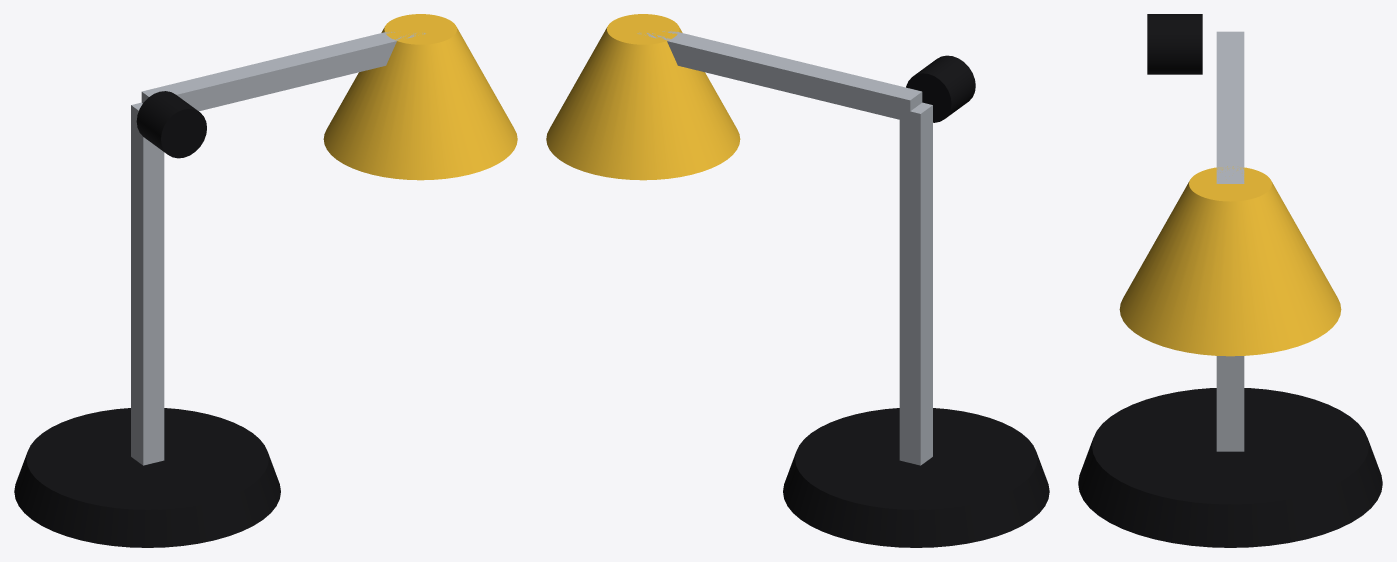
File: lamp.glb
The picture shows the model from 3 angles, left to right: view 1: azimuth 30°, elevation 25°; view 2: azimuth 150°, elevation 25°; view 3: azimuth 270°, elevation 25°; orthographic projection. The views are drawn at different scales.
Parts seen in each view (by area): view 1: Base, Shade, Arm, Upper arm, Joint; view 2: Base, Shade, Arm, Upper arm, Joint; view 3: Base, Shade, Upper arm, Joint, Arm.
Boxes of the visible parts, box(x1,y1,x2,y2) form: Base: box(14, 408, 280, 547); Shade: box(323, 14, 517, 180); Arm: box(131, 102, 164, 465); Upper arm: box(141, 31, 425, 111); Joint: box(136, 91, 206, 158); Base: box(783, 408, 1049, 547); Shade: box(546, 14, 740, 180); Arm: box(899, 102, 932, 465); Upper arm: box(637, 30, 922, 122); Joint: box(906, 55, 975, 122); Base: box(1078, 388, 1382, 547); Shade: box(1119, 166, 1341, 356); Upper arm: box(1216, 31, 1244, 183); Joint: box(1147, 14, 1202, 74); Arm: box(1216, 356, 1244, 451).
Size of the model in its own units: 0.45 by 0.372 by 0.22.
